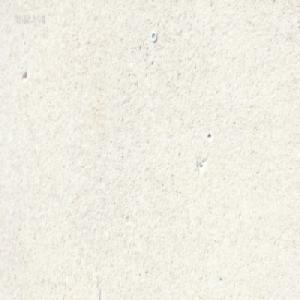Washer: (150, 32, 156, 42)
